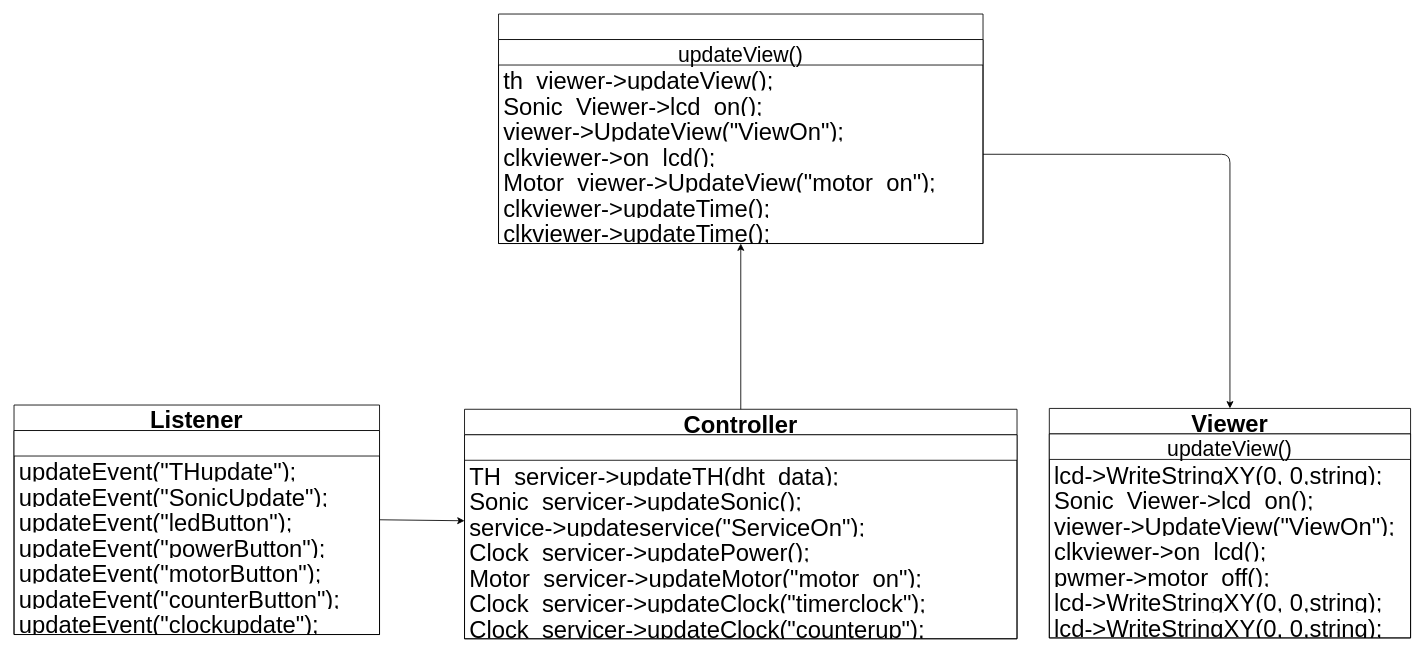
The diagram is 1425 pixels wide and 656 high, and some of its shapes have lost their labels. The shapes that lost their labels are listed below. From the top down, each one's box as (x1, y1, x2, y2) in pixels, then its label:
(498, 13, 983, 244): Servicer
(13, 430, 380, 635): checkEvent()
(464, 434, 1017, 639): updateEvent()
